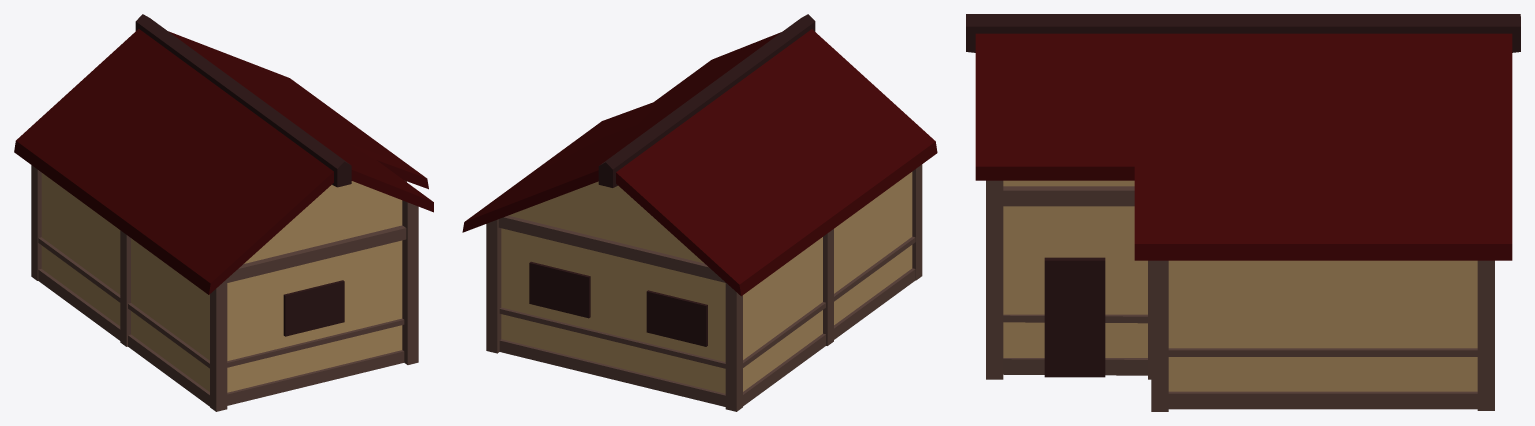
Rendered from FarmHouse(1).fbx.
3 renders of one model, left to right at view 1: azimuth 30°, elevation 25°; view 2: azimuth 150°, elevation 25°; view 3: azimuth 270°, elevation 25°, orthographic. The views are drawn at different scales.
Visible parts, largest first — view 1: FarmHouse(1); view 2: FarmHouse(1); view 3: FarmHouse(1).
Boxes of the visible parts, <box> form: FarmHouse(1): <box>14,14,433,411</box>; FarmHouse(1): <box>462,14,937,411</box>; FarmHouse(1): <box>966,14,1520,411</box>.
Size of the model in its own units: 6.85 by 5.34 by 8.6.
